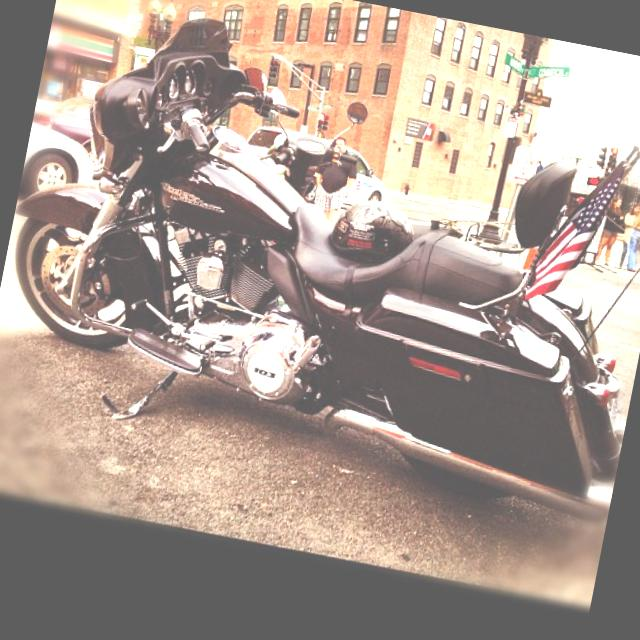Vehicle: (0, 0, 640, 520), (238, 122, 396, 216), (20, 88, 110, 204), (27, 86, 109, 165)
